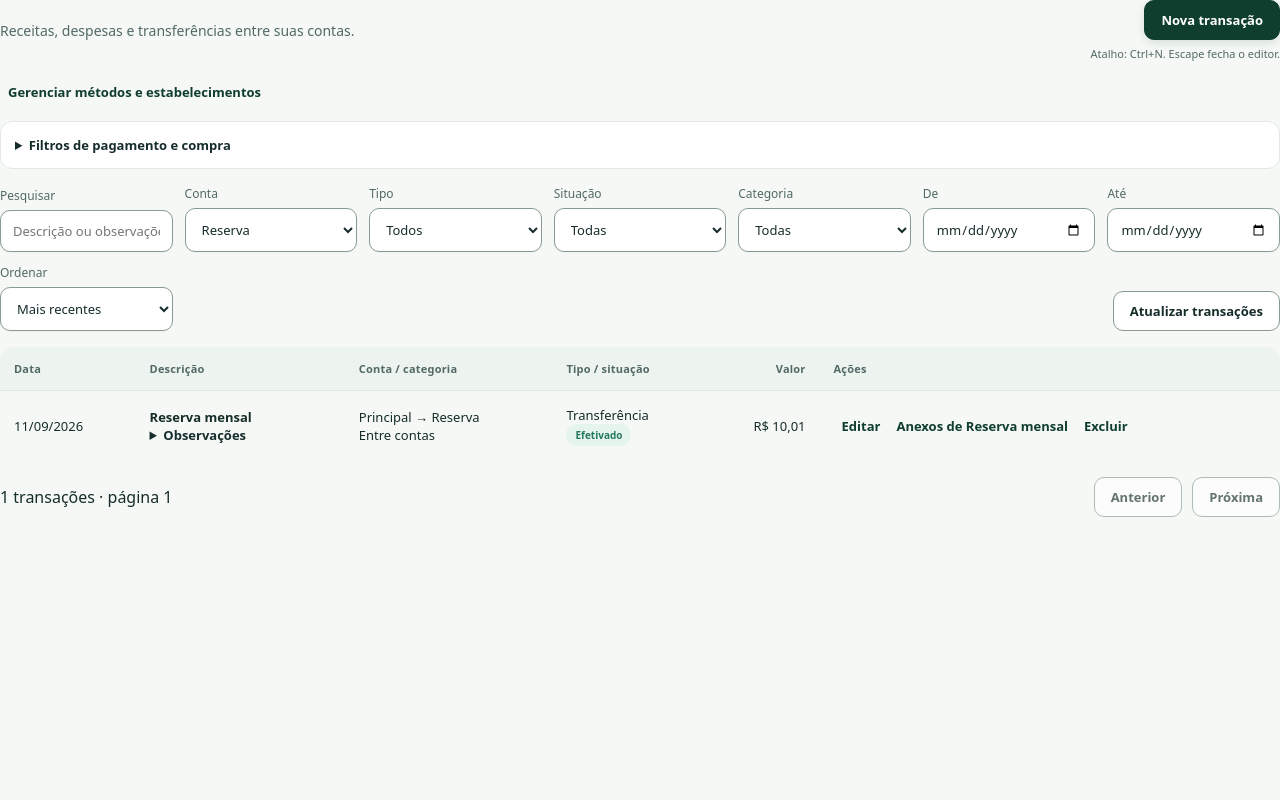
Test: filters history by destination, searches notes, and confirms deletion
Check: the column heading "Reserva mensal" is shown, box [150, 408, 252, 426]
Type "inexistente" into the field labelled "Pesquisar" at (86, 231), box [0, 210, 173, 252]
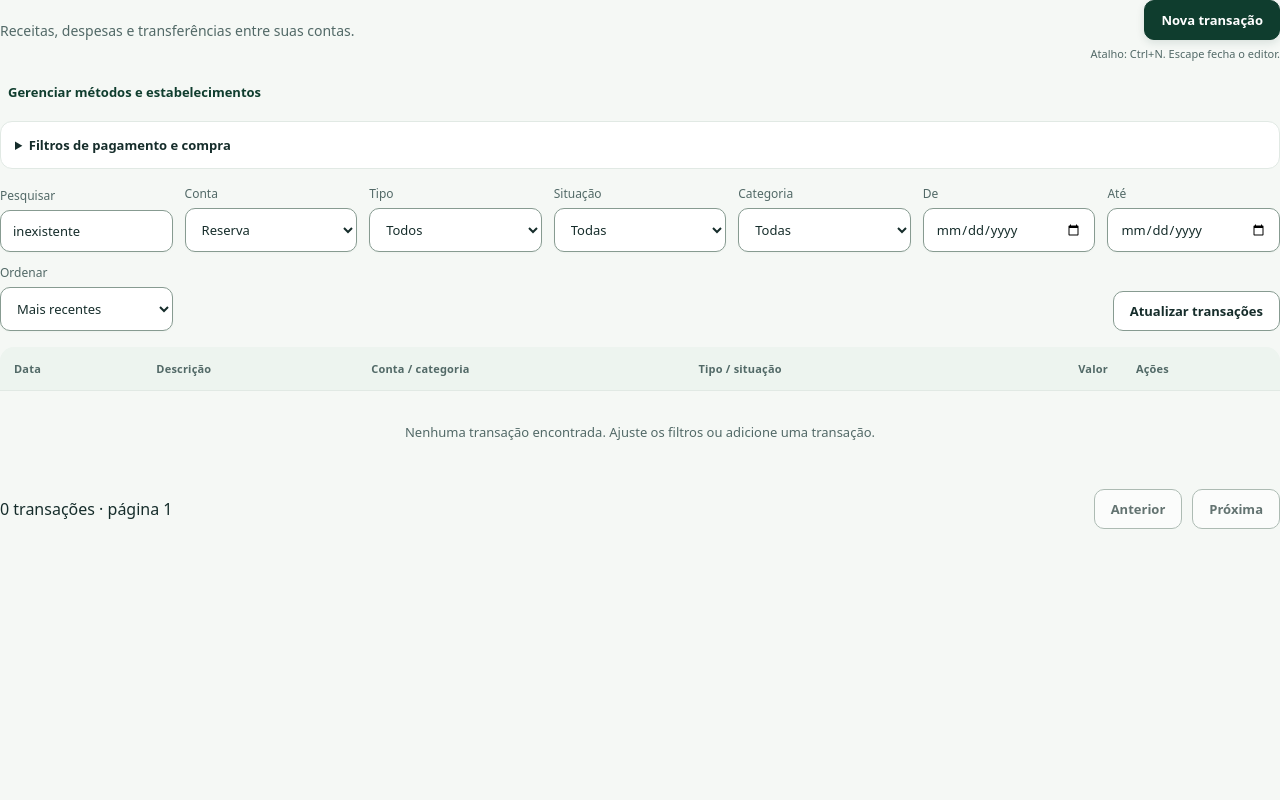
Check: the column heading "Reserva mensal" is gone
Replace the text in the field labelled "Pesquisar" with "semanal" at (86, 231), box [0, 210, 173, 252]
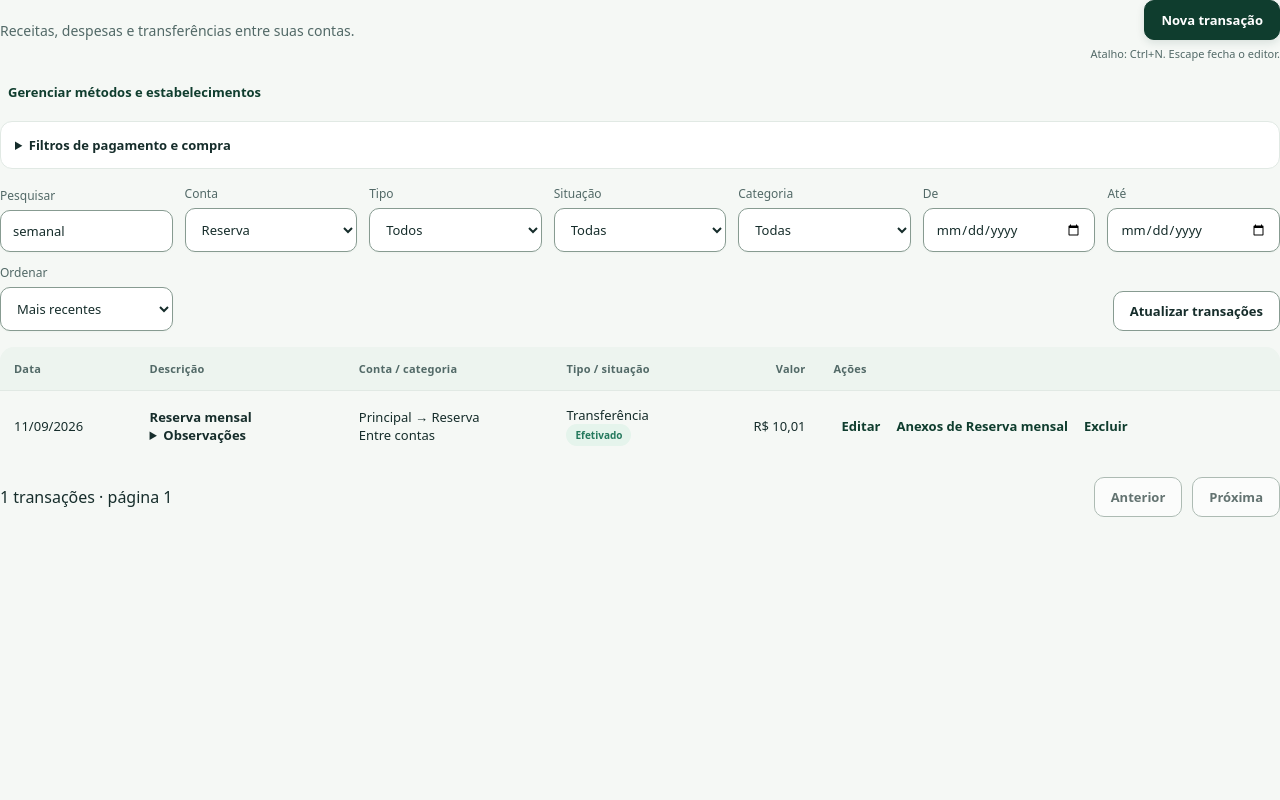
Check: the column heading "Reserva mensal" is shown, box [150, 408, 252, 426]
Click the button with aria-label "Excluir Reserva mensal" at (1106, 426), box [1076, 411, 1136, 441]
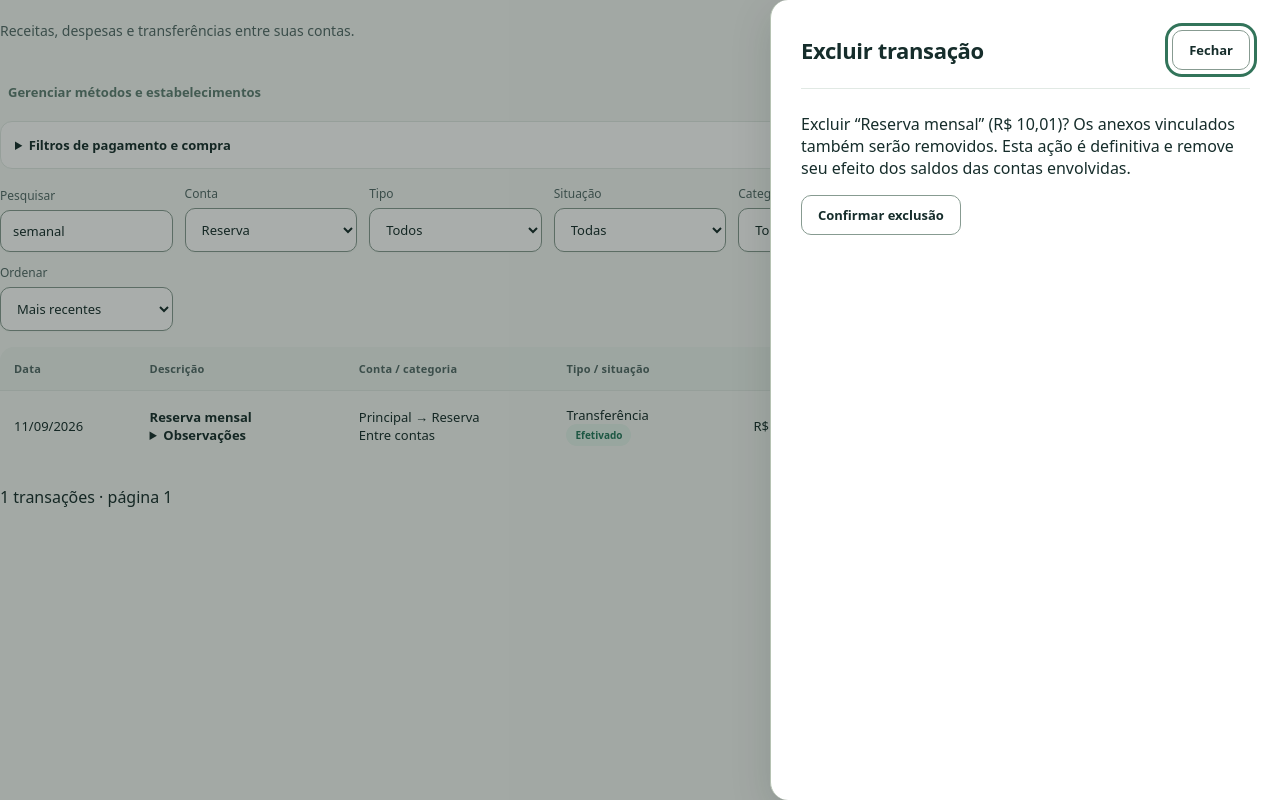
Click the button "Confirmar exclusão" at (881, 215), box [801, 195, 961, 235]
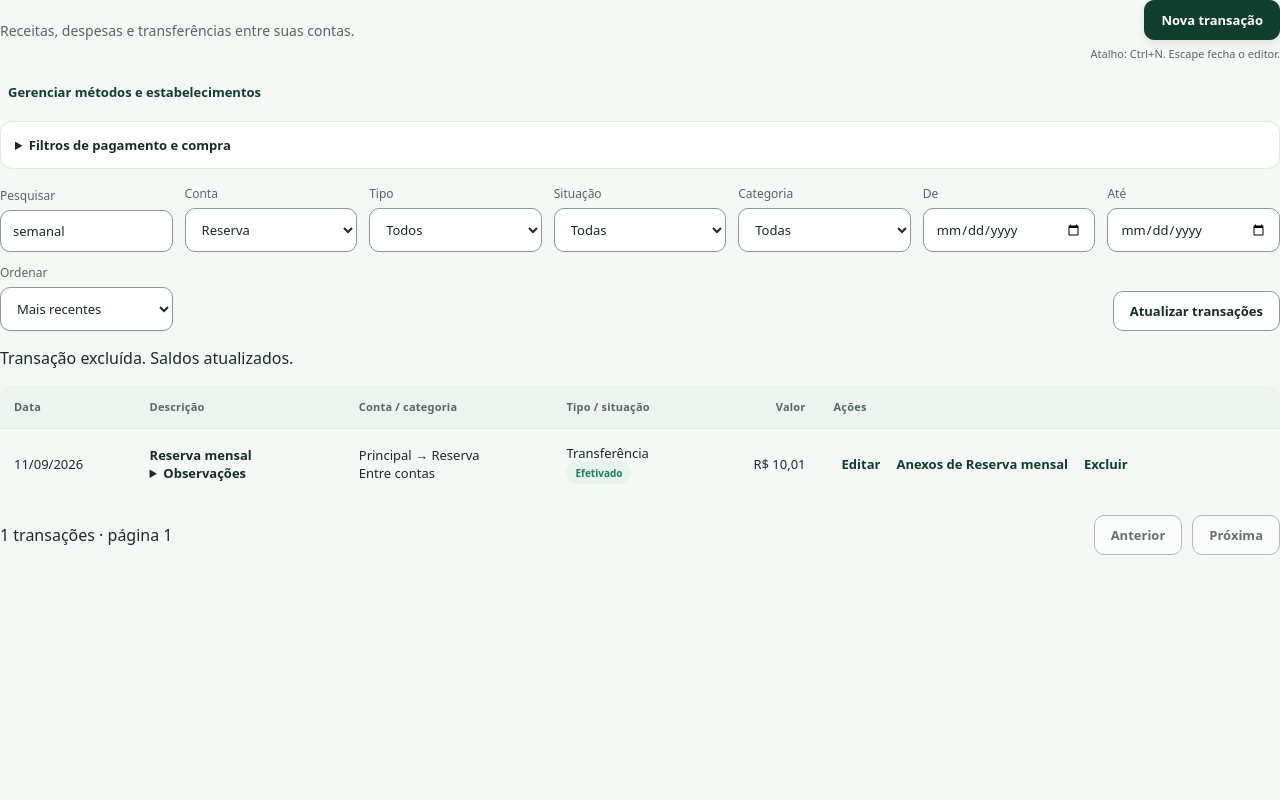
Check: the dialog is gone
